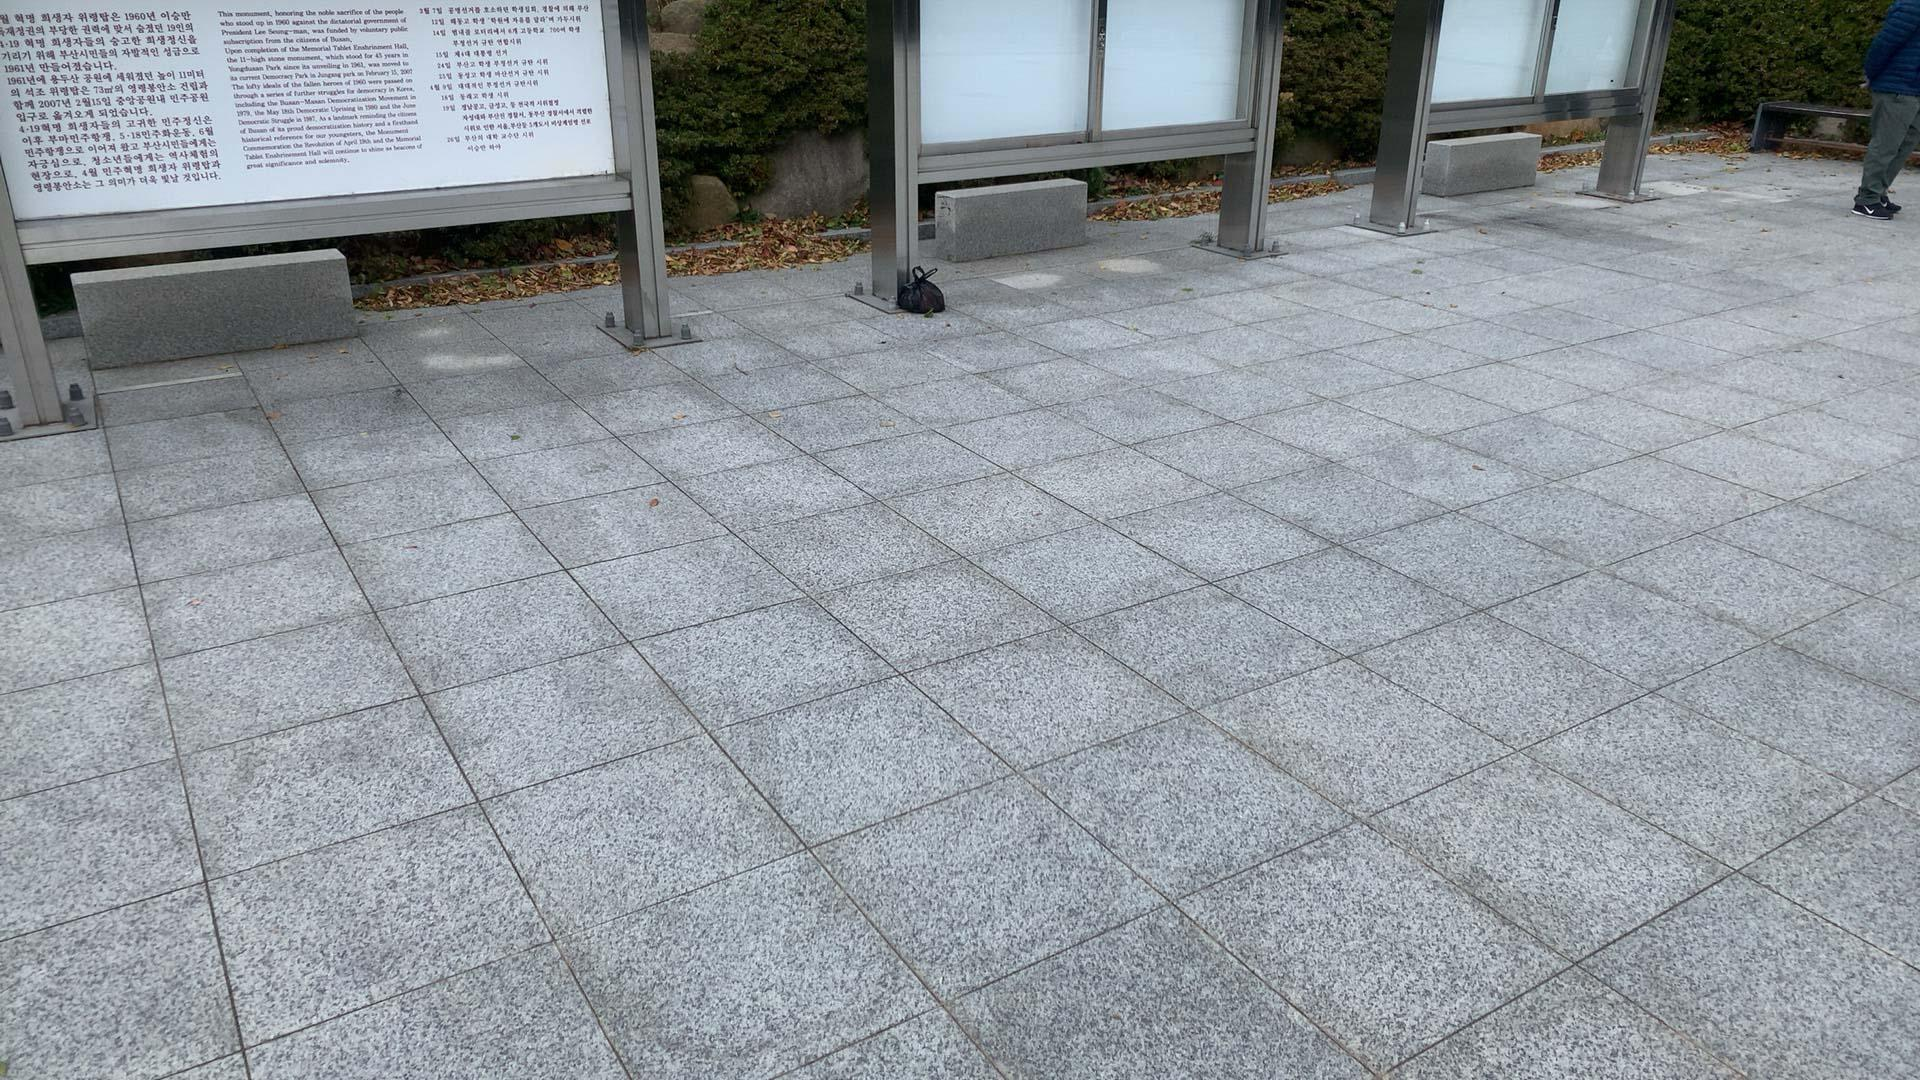black_bag: (890, 258, 949, 316)
